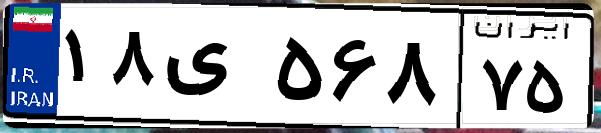1: (57, 26, 110, 100)
5: (270, 28, 330, 110), (525, 38, 570, 115)
6: (330, 28, 385, 110)
7: (475, 38, 525, 113)
8: (385, 28, 445, 110), (110, 28, 158, 98)
ی: (158, 20, 270, 120)
